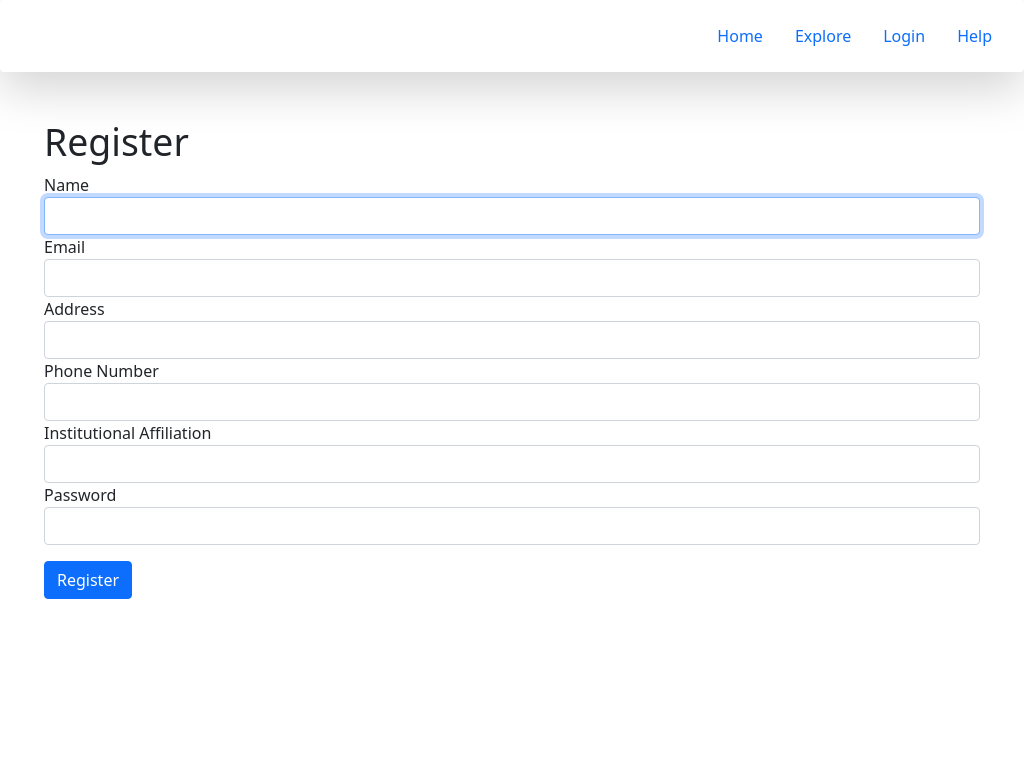
Test: Sign up for account works › Makes sure the validation is working
What coordinates should you click on to do the following:
click the button with id "register-button"
I would click on:
 (88, 580)
Its box is x1=44 y1=561 x2=132 y2=599.
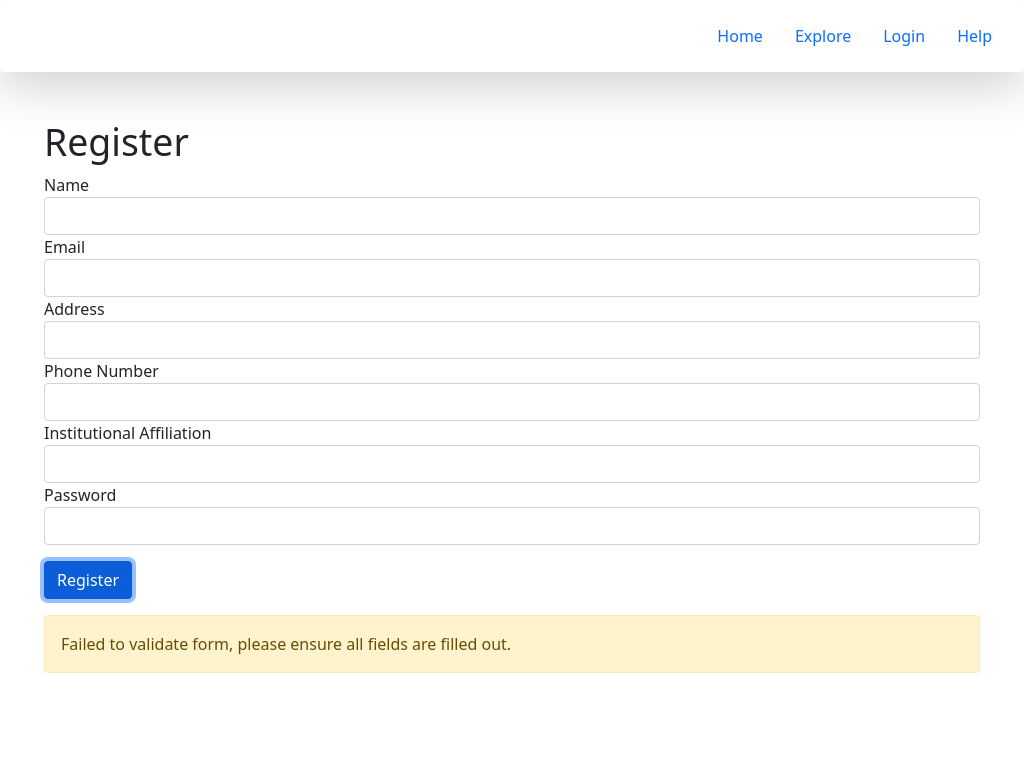
expect the text "Failed to validate form, please ensure all fields are filled out." is shown: met, box x1=44 y1=615 x2=980 y2=673
